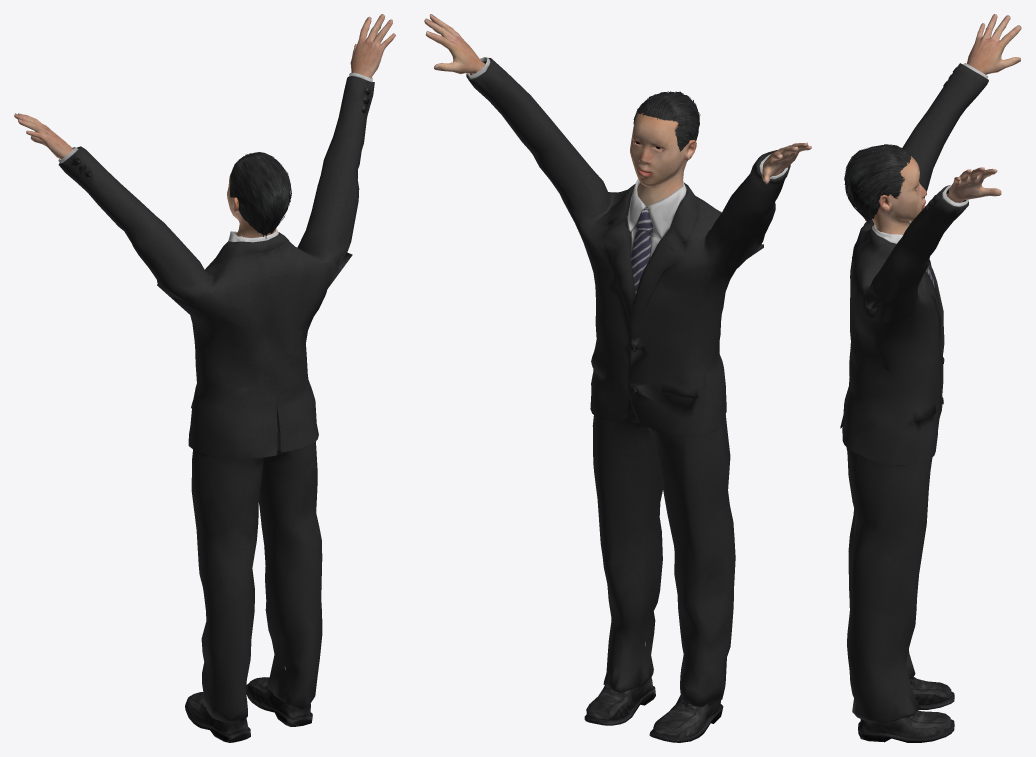
The model's file is cheering_2.gltf.
3 views of the same model, side by side, from view 1: azimuth 30°, elevation 25°; view 2: azimuth 150°, elevation 25°; view 3: azimuth 270°, elevation 25° (orthographic). The views are drawn at different scales.
Visible parts, largest first — view 1: cheering; view 2: cheering; view 3: cheering.
Part boxes in pixels (<box>): cheering: <box>14,14,395,742</box>; cheering: <box>424,14,811,742</box>; cheering: <box>840,14,1021,742</box>.
Size of the model in its own units: 1.26 by 2.11 by 0.5428.
6 materials, 6 textured.
